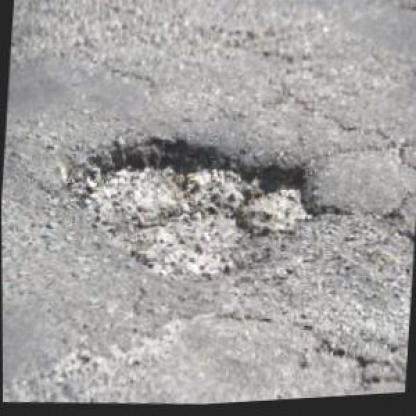pothole: (58, 119, 330, 302)
